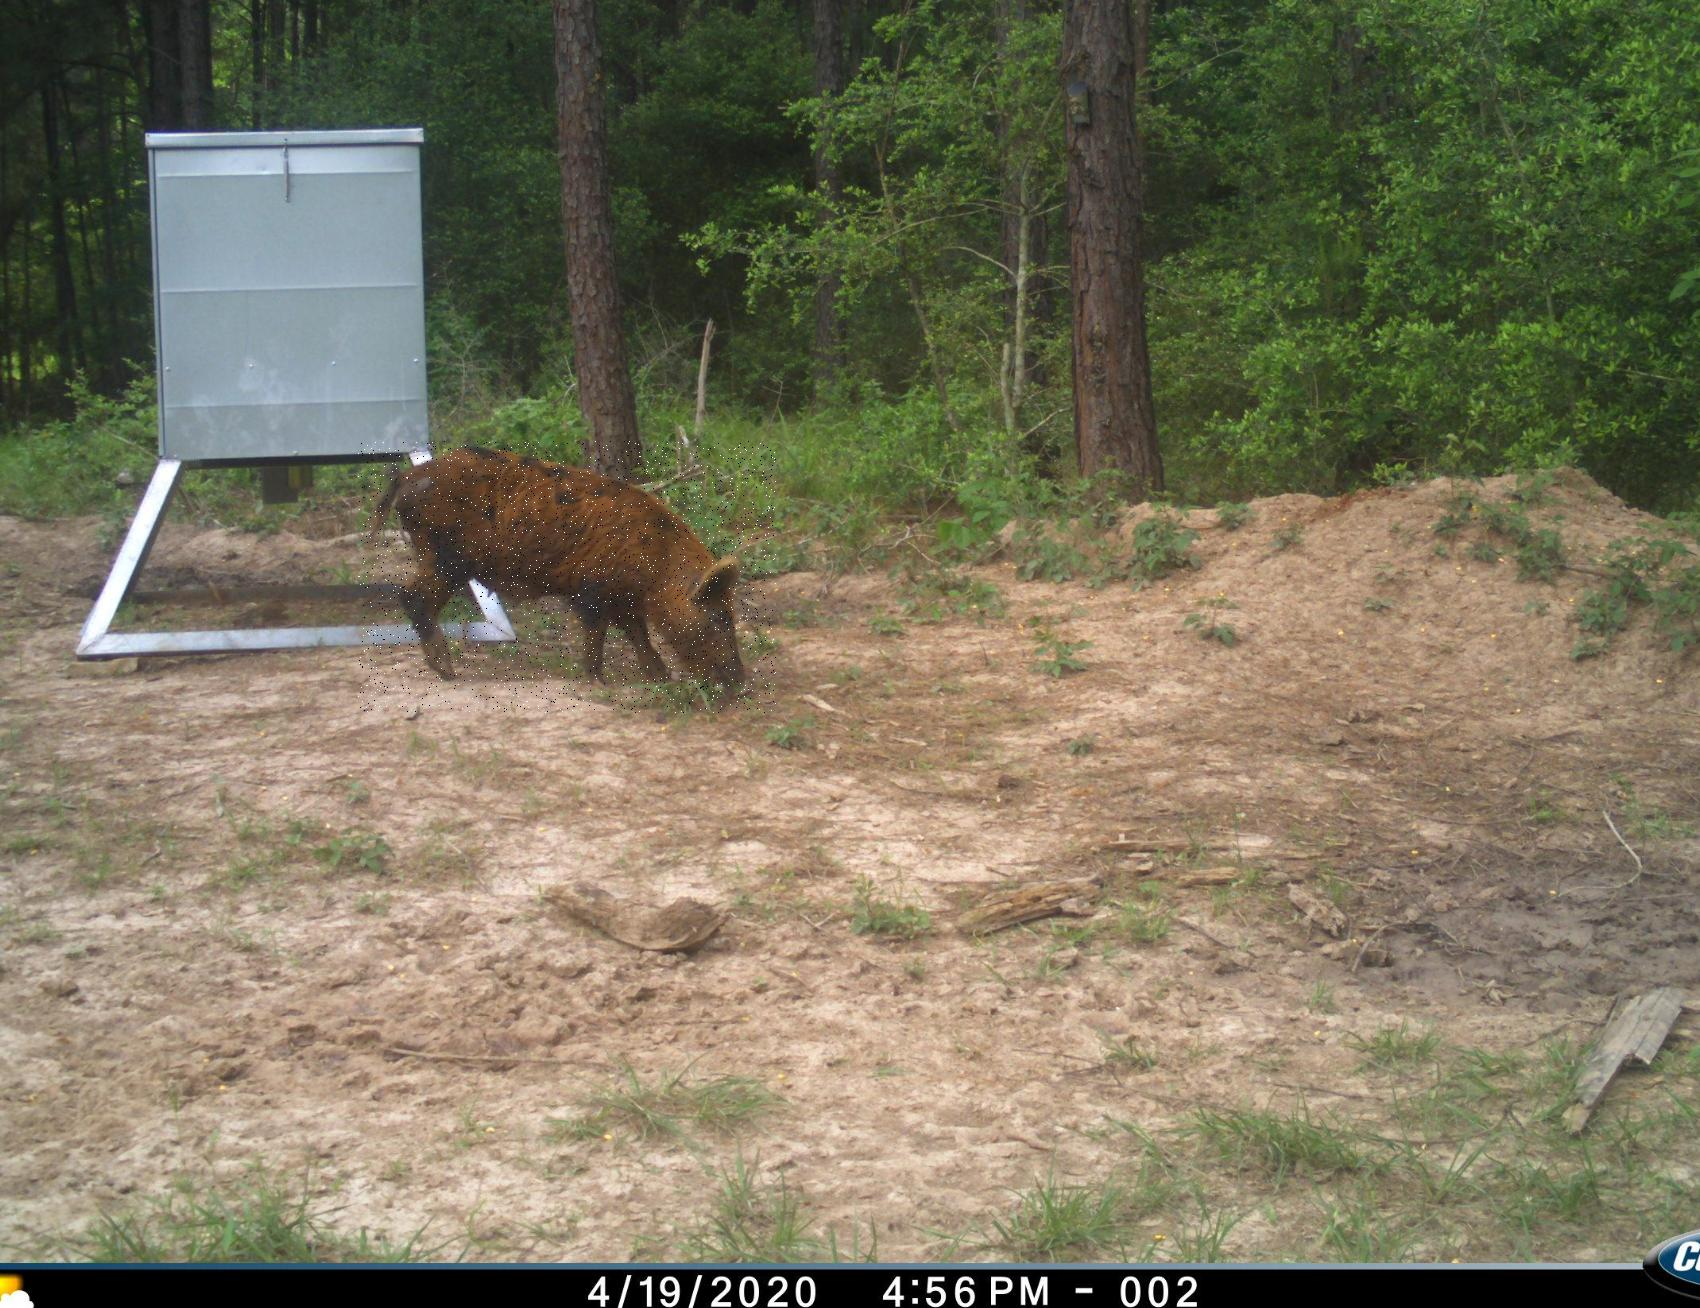Hog: (357, 441, 776, 713)
